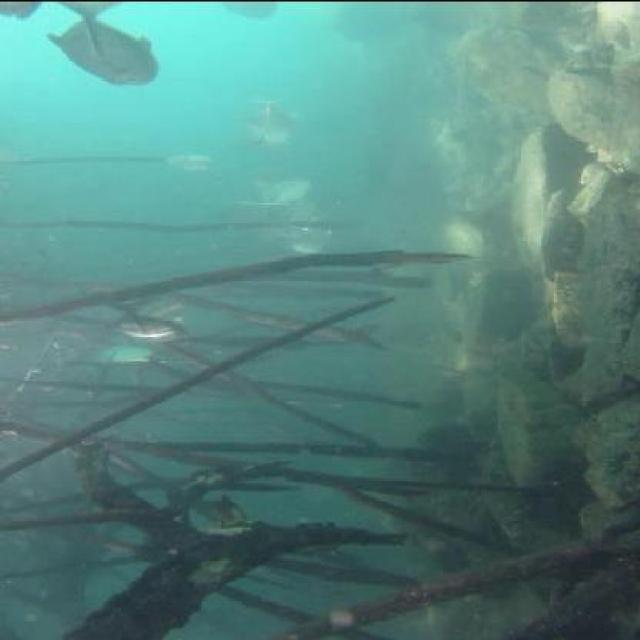Caranx_sexfasciatus_juvenile: (46, 0, 171, 89), (102, 294, 205, 344), (70, 342, 164, 376), (242, 177, 318, 209), (236, 120, 304, 151), (246, 90, 294, 128), (153, 147, 224, 171), (1, 0, 56, 25)
